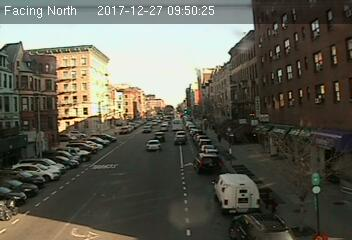car: (226, 208, 293, 240), (195, 153, 222, 174), (145, 139, 160, 150), (173, 136, 186, 144), (154, 131, 164, 141)
truck: (211, 172, 261, 215)
